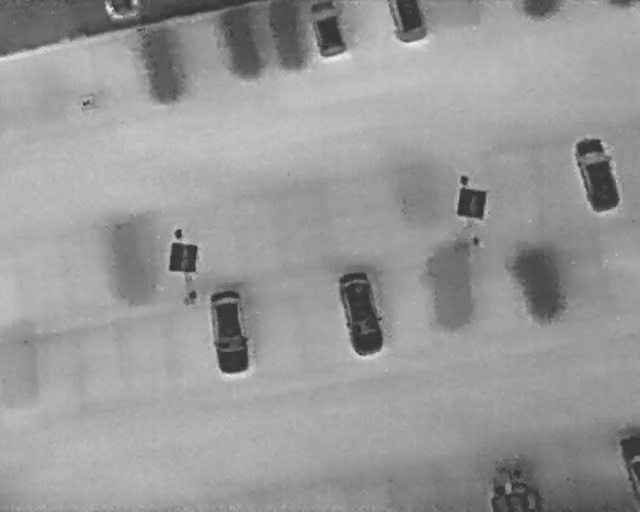Car: (332, 266, 392, 361), (567, 130, 626, 218), (204, 286, 253, 379), (303, 0, 348, 61), (386, 0, 429, 44), (618, 434, 639, 499), (102, 0, 141, 23)
